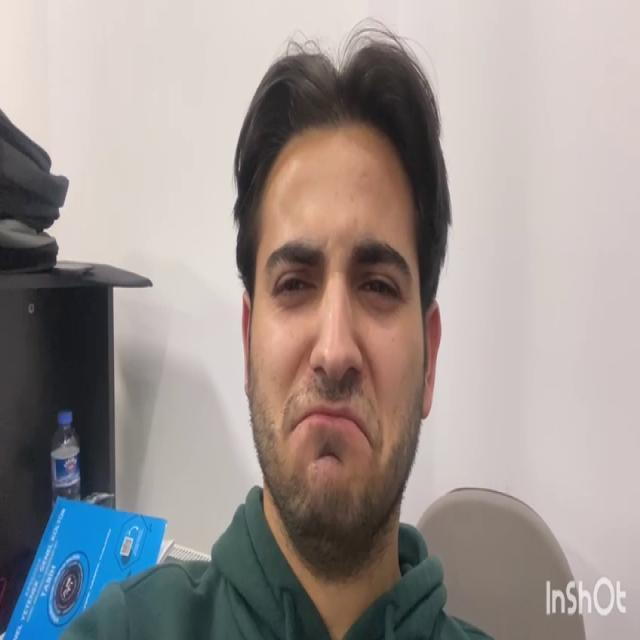sad: (251, 132, 433, 550)
